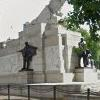Statue: (17, 34, 49, 77)
